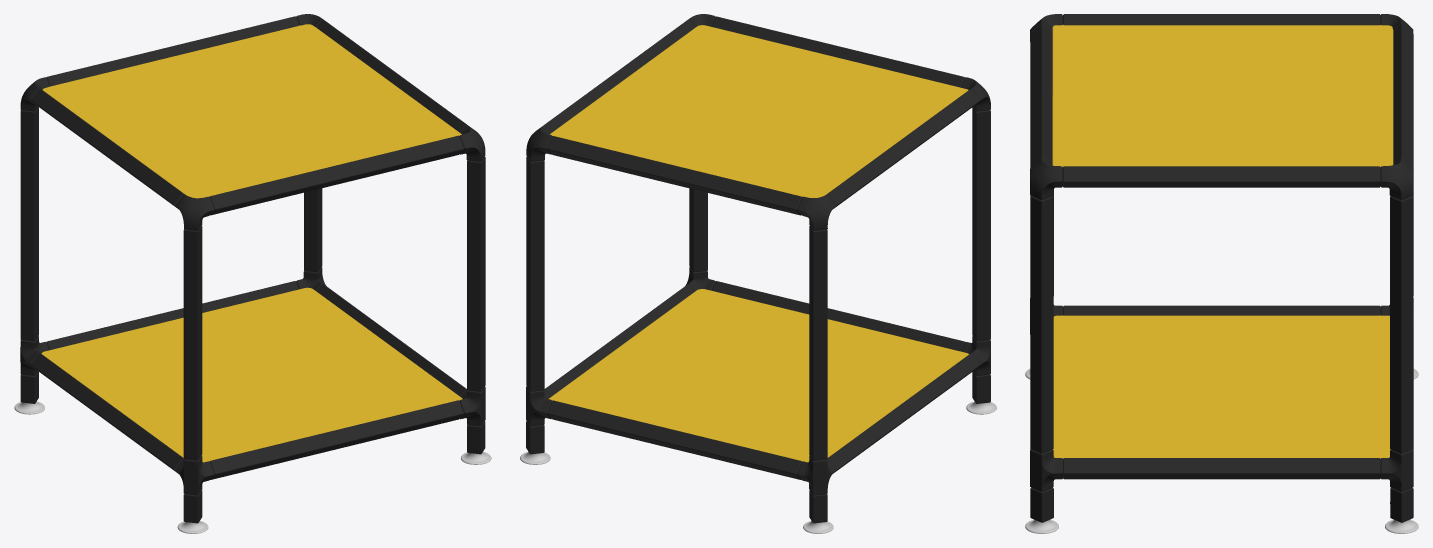
3 views of the same model, side by side, from view 1: azimuth 30°, elevation 25°; view 2: azimuth 150°, elevation 25°; view 3: azimuth 270°, elevation 25° (orthographic). The views are drawn at different scales.
Visible parts, largest first — view 1: 374x374x329; view 2: 374x374x329; view 3: 374x374x329.
Part boxes in pixels (x1,y1,x2,y2): 374x374x329: (14,14,491,533); 374x374x329: (520,14,996,533); 374x374x329: (1025,14,1418,533).
Bounding box in the file's own units: 0.4639 × 0.4683 × 0.4632.
